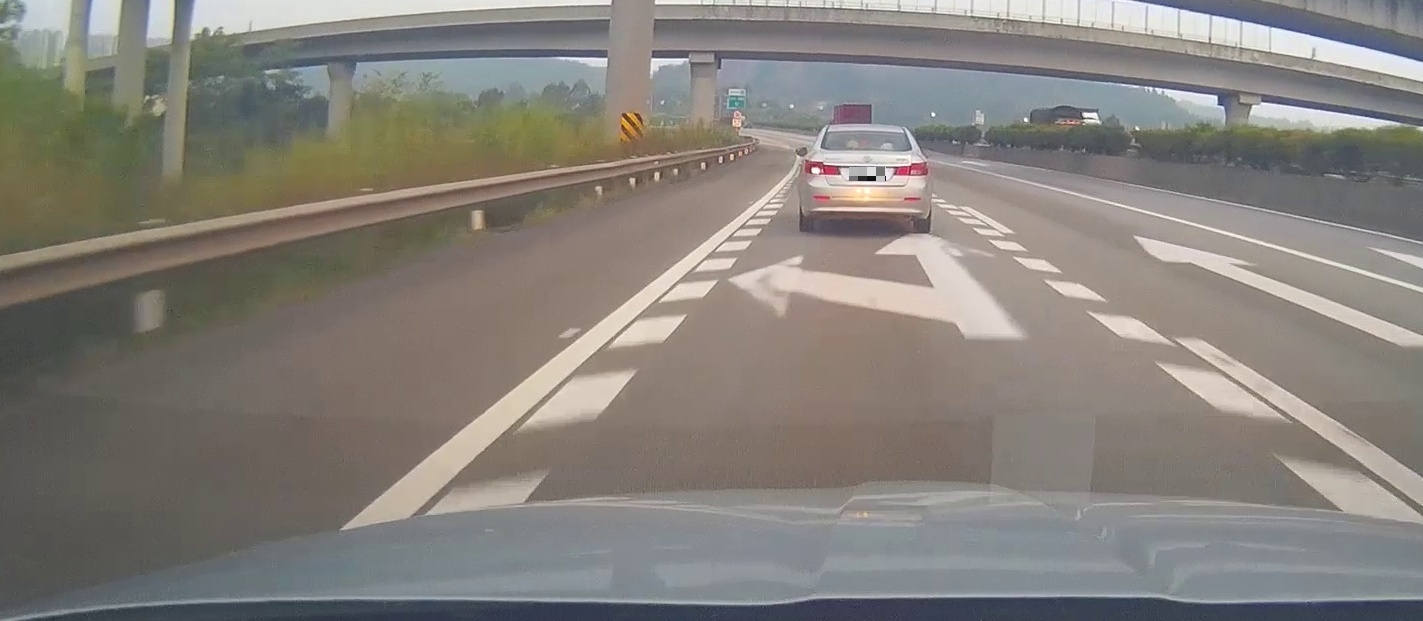L_light: (804, 159, 841, 176)
R_light: (893, 161, 929, 177)
T_light: (860, 130, 873, 135)
day-left: (798, 124, 933, 233)
plate_1: (849, 167, 886, 181)
